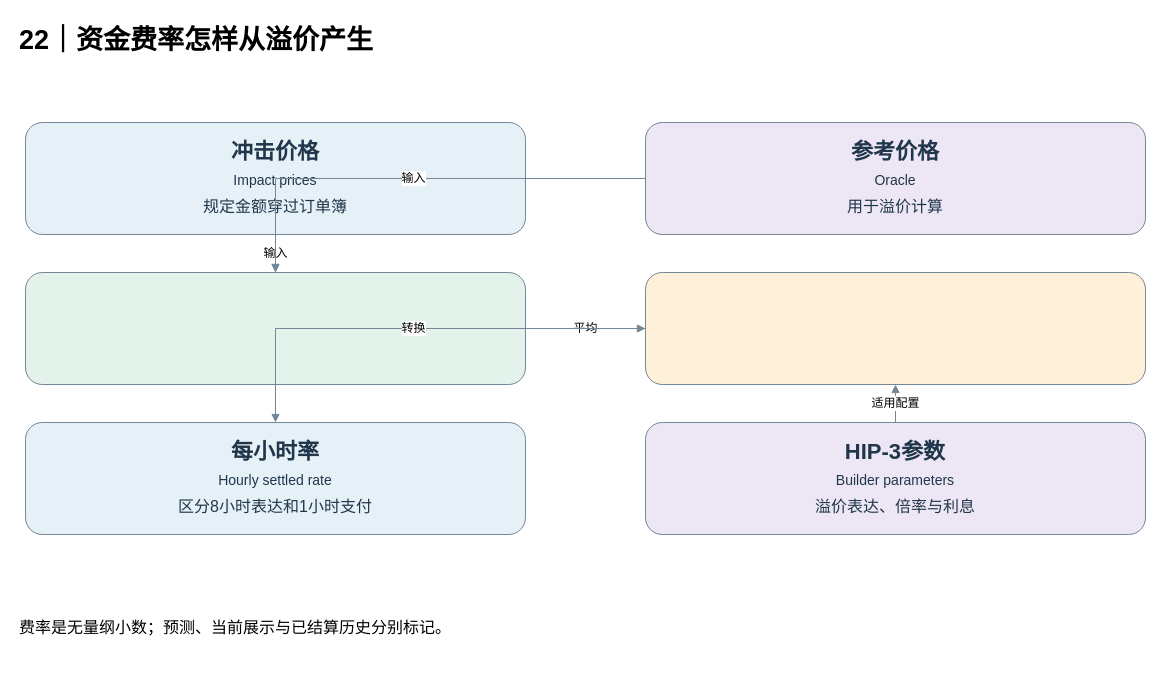
This 1170x690 diagram has some shape labels left out. Each missing label, with the centre of its shape:
小时采样 Hourly premium samples 普通规范每5秒采样: point 275,328
规则表达 Funding formula 平均溢价、利息与限制: point 895,328
